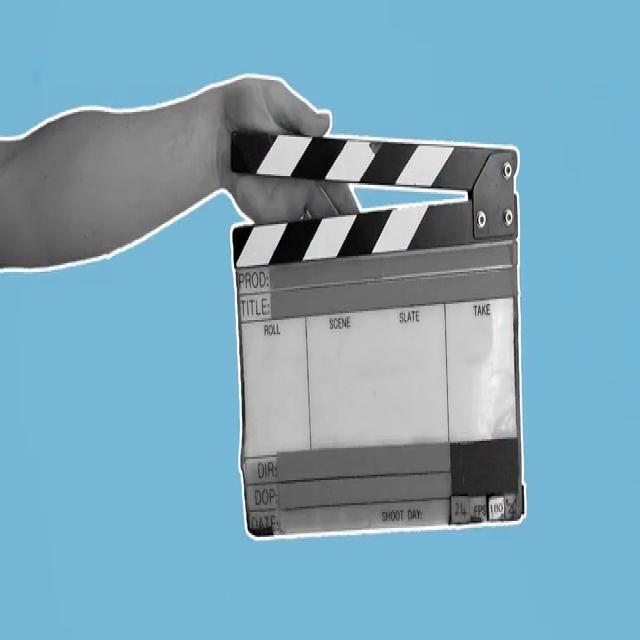Clapperboard: (227, 130, 526, 540)
